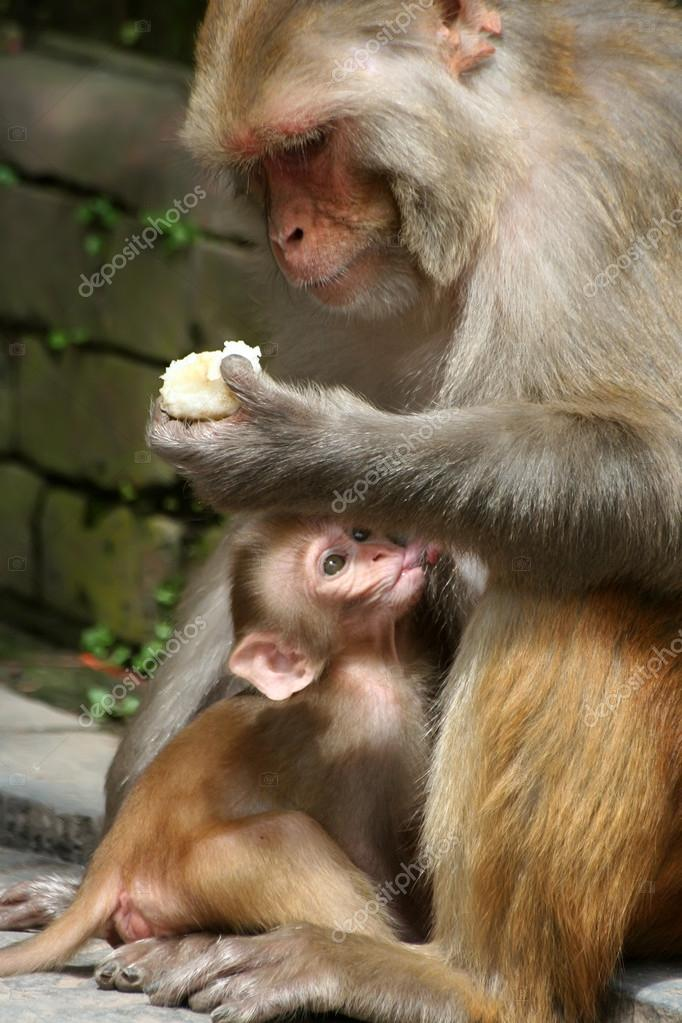monkey: (135, 1, 682, 1023), (52, 467, 473, 993)
